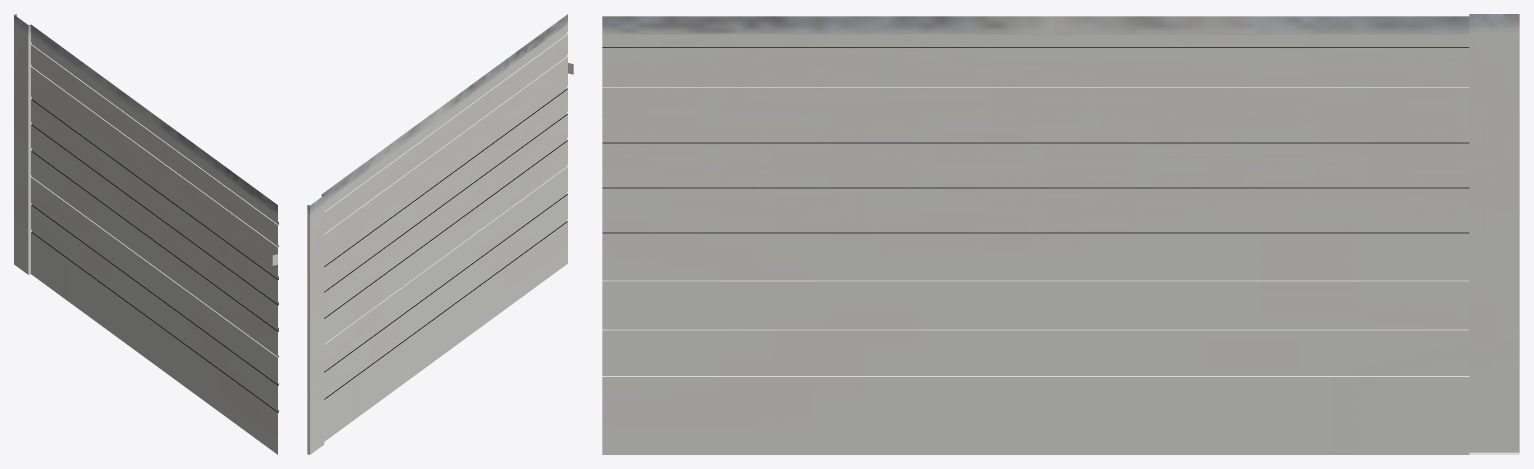
The model's file is ShoeshopHalfExteriorWall.fbx.
3 views of the same model, side by side, from view 1: azimuth 30°, elevation 25°; view 2: azimuth 150°, elevation 25°; view 3: azimuth 270°, elevation 25° (orthographic). The views are drawn at different scales.
Visible parts, largest first — view 1: ShoeshopExteriorHalfWall; view 2: ShoeshopExteriorHalfWall; view 3: ShoeshopExteriorHalfWall.
Boxes of the visible parts, bbox=[...] form: ShoeshopExteriorHalfWall: bbox=[14, 14, 278, 454]; ShoeshopExteriorHalfWall: bbox=[307, 14, 573, 454]; ShoeshopExteriorHalfWall: bbox=[602, 14, 1519, 454].
Bounding box in the file's own units: 18.81 × 707 × 1340.
